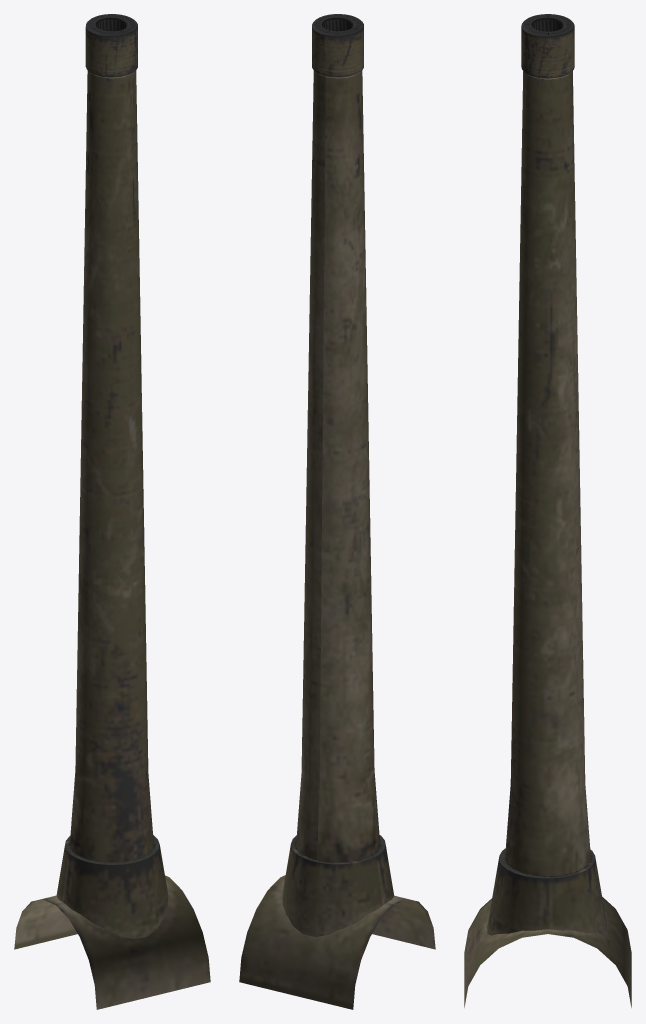
File: Gun_01.glb
3 renders of one model, left to right at view 1: azimuth 30°, elevation 25°; view 2: azimuth 150°, elevation 25°; view 3: azimuth 270°, elevation 25°, orthographic.
Visible parts, largest first — view 1: set_0_group_0; view 2: set_0_group_0; view 3: set_0_group_0.
Boxes of the visible parts, x1,y1,x2,y2 form: set_0_group_0: (14, 14, 210, 1009); set_0_group_0: (239, 14, 435, 1009); set_0_group_0: (464, 14, 631, 1007).
Bounding box in the file's own units: 0.4028 × 3.18 × 0.5048.
1 material, 1 textured.
